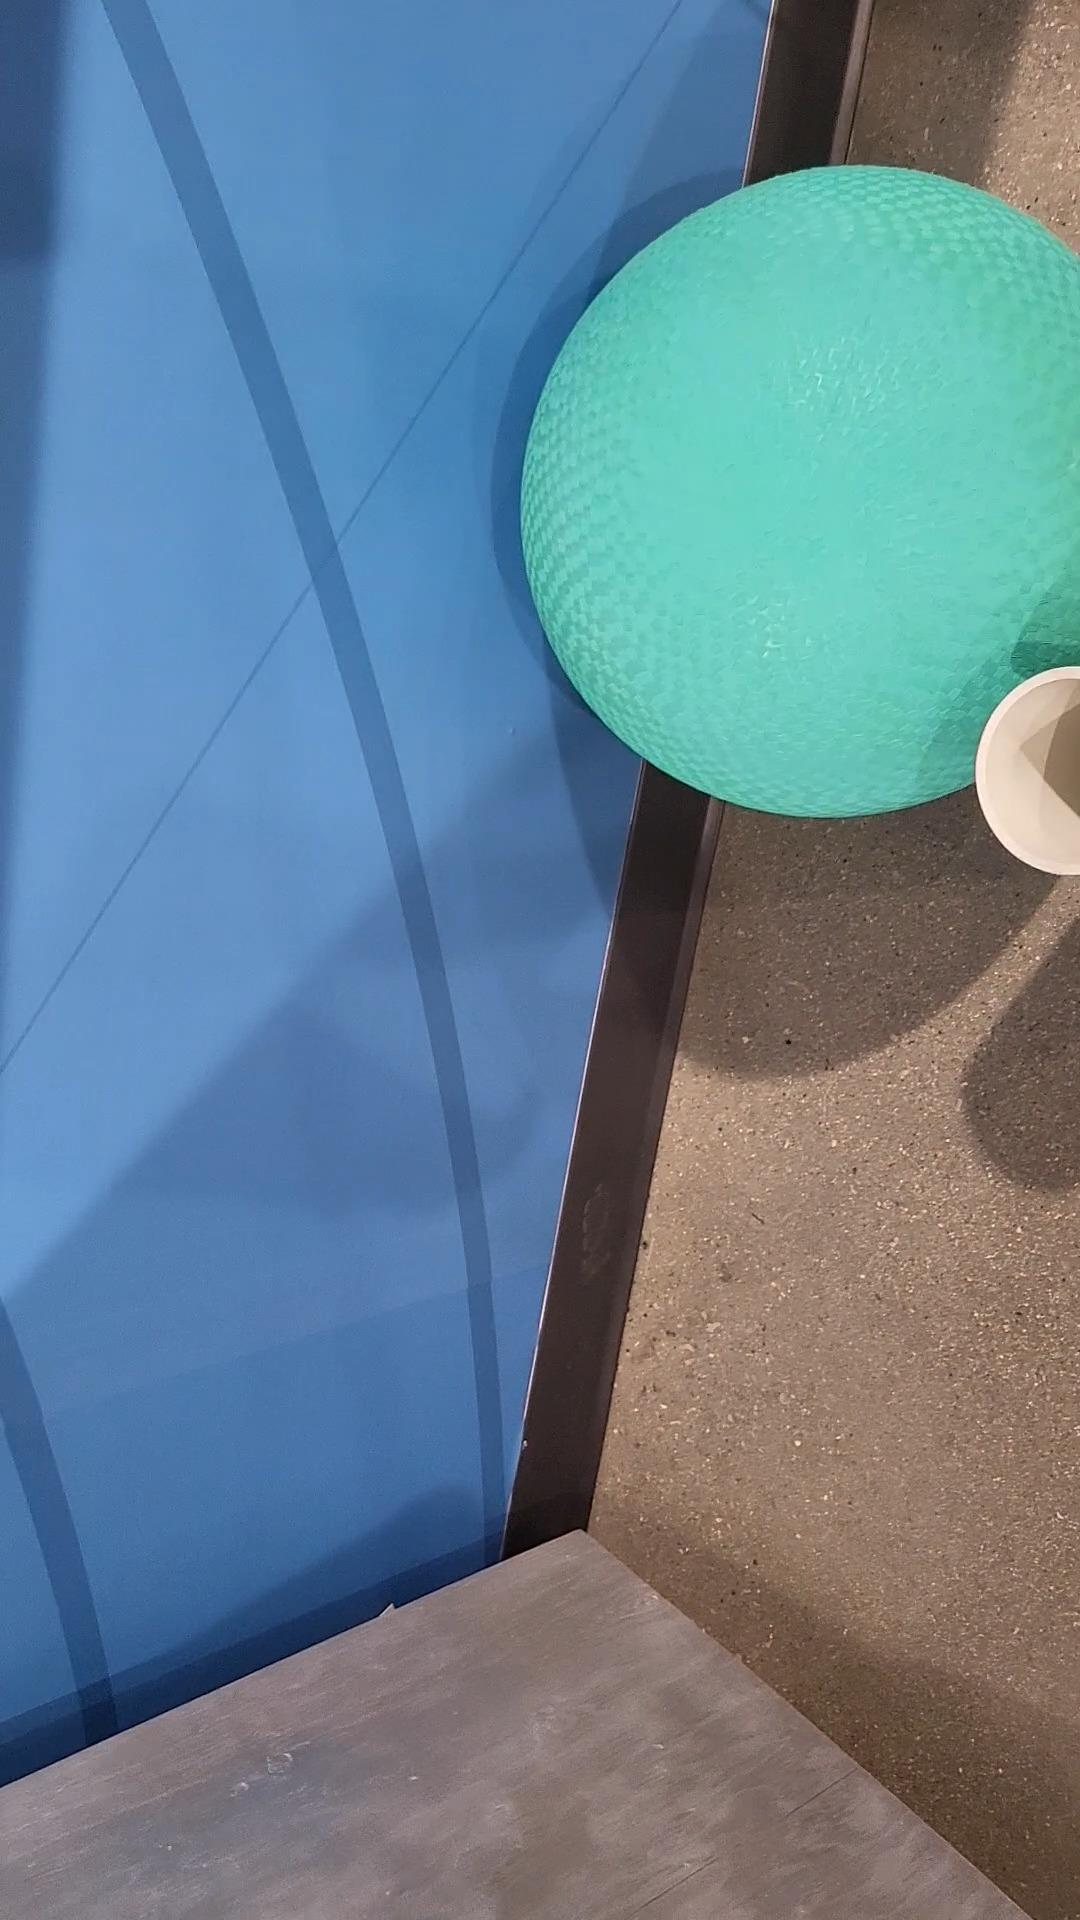algae: (520, 162, 1080, 812)
coral: (977, 670, 1080, 882)
